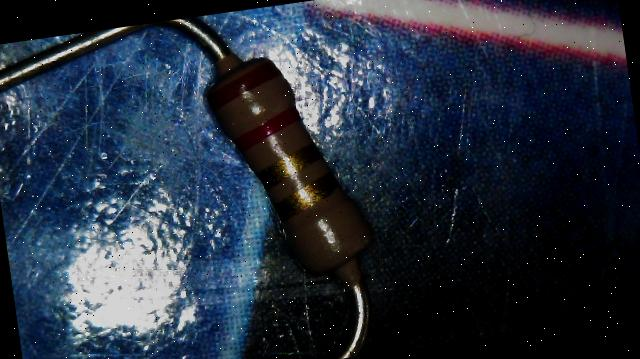brown: (206, 62, 284, 106)
gold: (270, 171, 342, 220), (252, 138, 325, 186)
red: (229, 106, 306, 154)
resistor: (167, 22, 421, 317)
